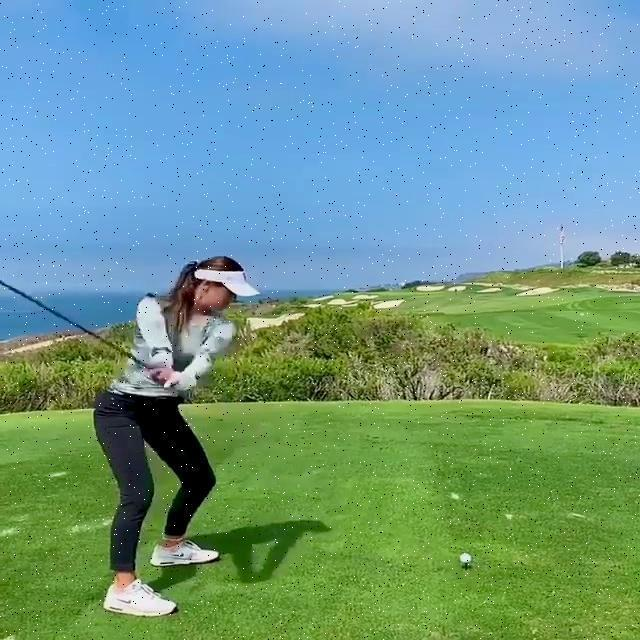GolfBall: (454, 551, 476, 568)
